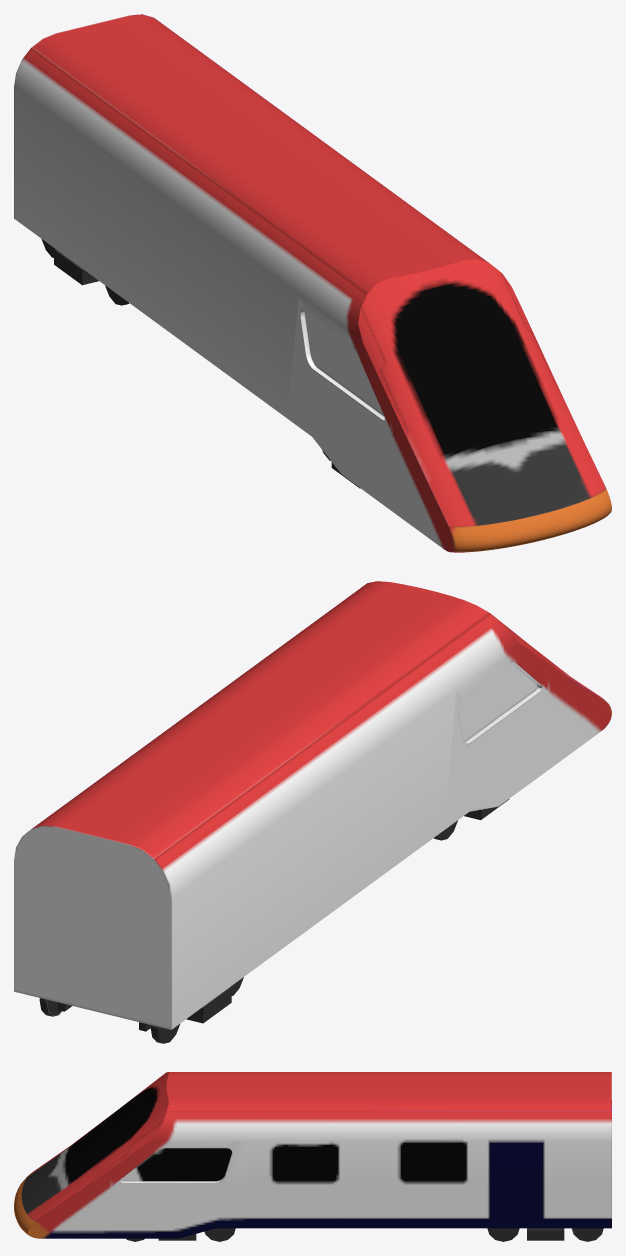
Rendered from mcd-head.fbx.
3 renders of one model, top to bottom at view 1: azimuth 30°, elevation 25°; view 2: azimuth 150°, elevation 25°; view 3: azimuth 270°, elevation 25°, orthographic. The views are drawn at different scales.
Parts seen in each view (by area): view 1: wagon-rump-modern; view 2: wagon-rump-modern; view 3: wagon-rump-modern.
Part boxes in pixels (x1,y1,x2,y2): wagon-rump-modern: (14,14,611,552); wagon-rump-modern: (14,581,611,1043); wagon-rump-modern: (14,1072,611,1241).
Size of the model in its own units: 80 by 99.8 by 397.
